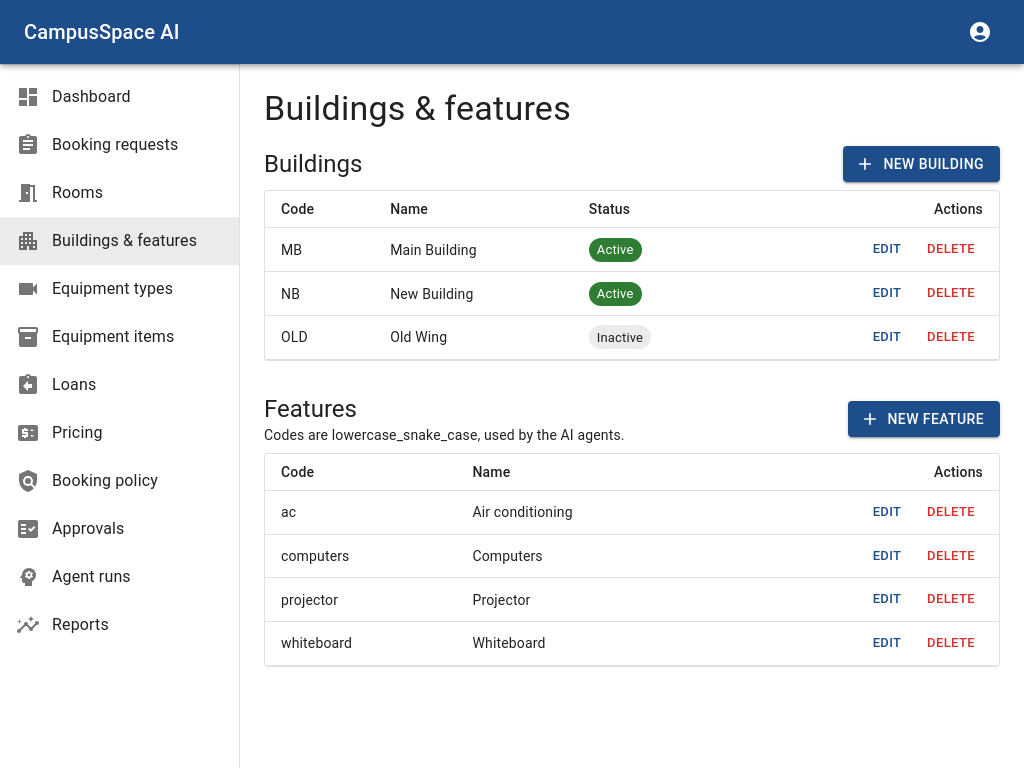
Test: ReferencePage › leaves the feature code editable when creating
Click the button "New feature" at (924, 419), box [848,400,1000,437]
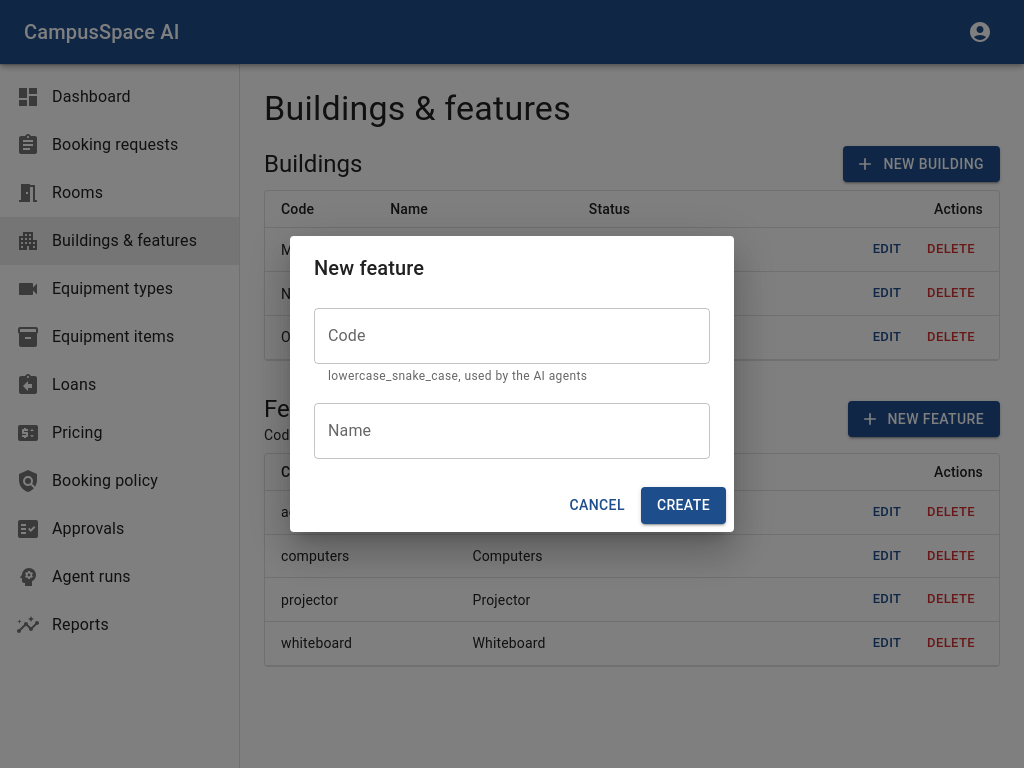
Now the field labelled "Code" is enabled, box [314,308,710,364]
